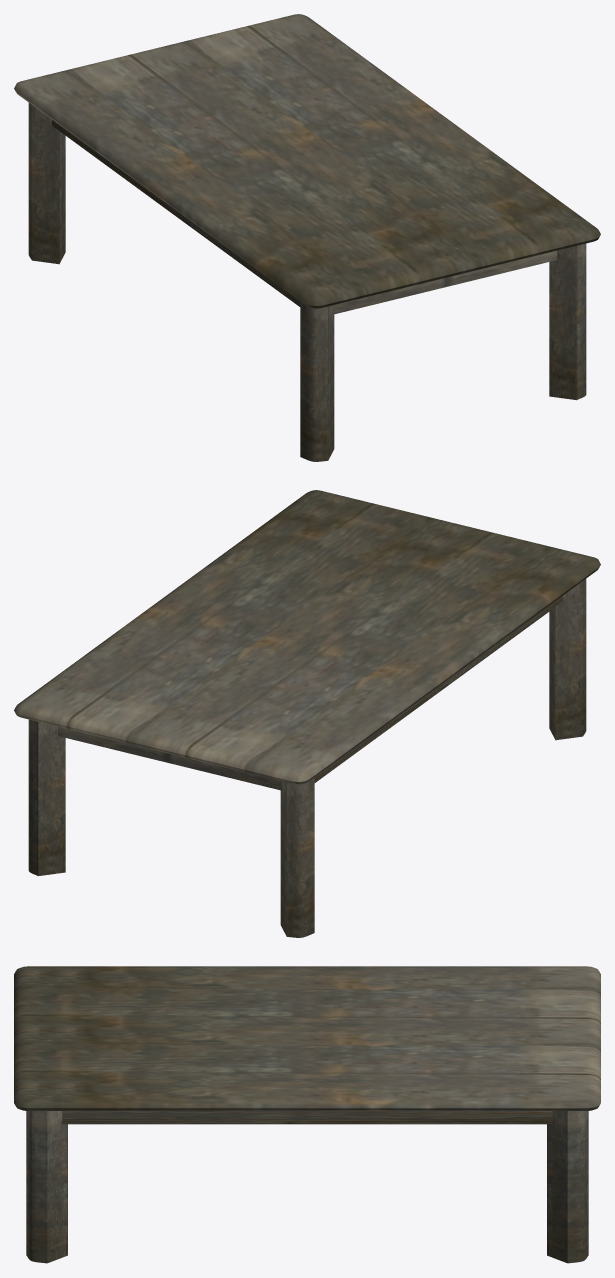
Rendered from table.glb.
3 views of the same model, one above another, from view 1: azimuth 30°, elevation 25°; view 2: azimuth 150°, elevation 25°; view 3: azimuth 270°, elevation 25° (orthographic). The views are drawn at different scales.
Visible parts, largest first — view 1: table.ms3d.mo; view 2: table.ms3d.mo; view 3: table.ms3d.mo.
Boxes of the visible parts, box(x1,y1,x2,y2) form: table.ms3d.mo: box(14, 14, 600, 461); table.ms3d.mo: box(14, 490, 600, 937); table.ms3d.mo: box(14, 966, 600, 1263).
Size of the model in its own units: 157 by 86.31 by 280.
1 material, 1 textured.
